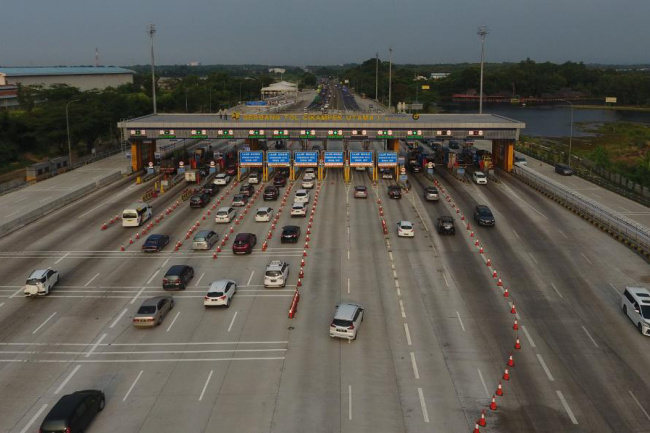car: (43, 388, 107, 433), (622, 281, 650, 338), (329, 303, 366, 343), (134, 295, 174, 330), (23, 269, 59, 299), (203, 278, 238, 308), (161, 263, 195, 292), (264, 259, 290, 292), (123, 202, 152, 228), (231, 232, 256, 255), (142, 234, 169, 254), (192, 231, 217, 252), (474, 205, 494, 228), (281, 224, 300, 245), (437, 216, 456, 237), (189, 192, 211, 208), (215, 207, 237, 222), (397, 220, 415, 238), (255, 207, 272, 222), (423, 185, 438, 202), (184, 169, 200, 184), (263, 186, 279, 201), (290, 203, 307, 217), (388, 183, 402, 200), (240, 182, 255, 197), (294, 188, 308, 204), (232, 193, 247, 207), (556, 162, 571, 176), (212, 173, 229, 185), (474, 171, 488, 185), (202, 183, 217, 195), (273, 174, 286, 187), (355, 185, 367, 198), (380, 169, 392, 180), (248, 172, 258, 185)
